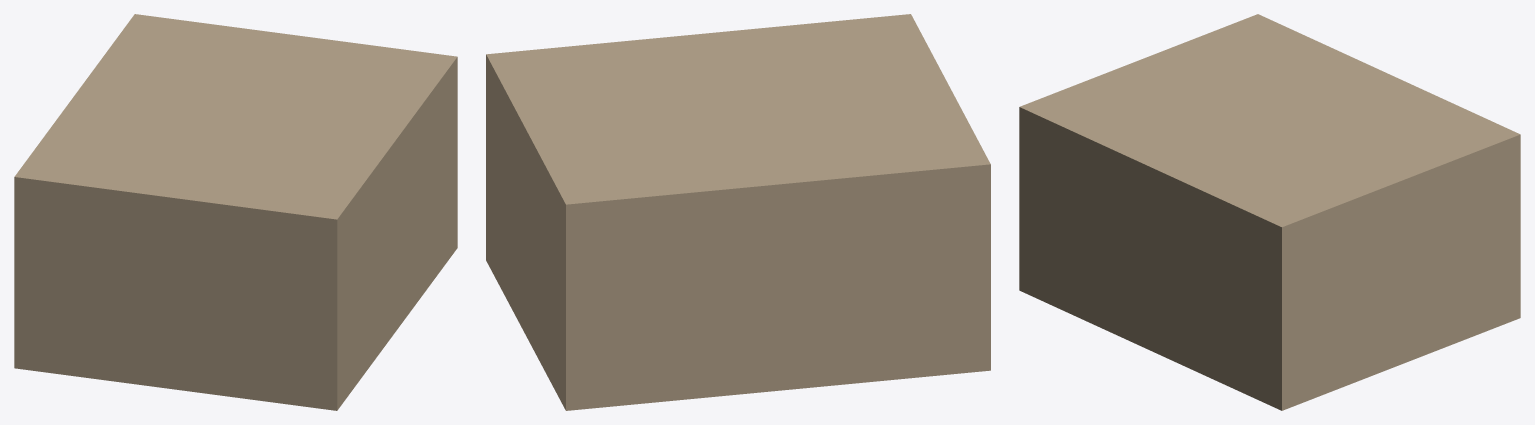
File: bld_55879291.dae
3 renders of one model, left to right at view 1: azimuth 30°, elevation 25°; view 2: azimuth 150°, elevation 25°; view 3: azimuth 270°, elevation 25°, orthographic. The views are drawn at different scales.
Visible parts, largest first — view 1: bld_55879291; view 2: bld_55879291; view 3: bld_55879291.
Boxes of the visible parts, x1=… form: bld_55879291: x1=14, y1=14, x2=457, y2=410; bld_55879291: x1=486, y1=14, x2=990, y2=410; bld_55879291: x1=1019, y1=14, x2=1520, y2=410.
Size of the model in its own units: 19.93 by 19.79 by 8.
